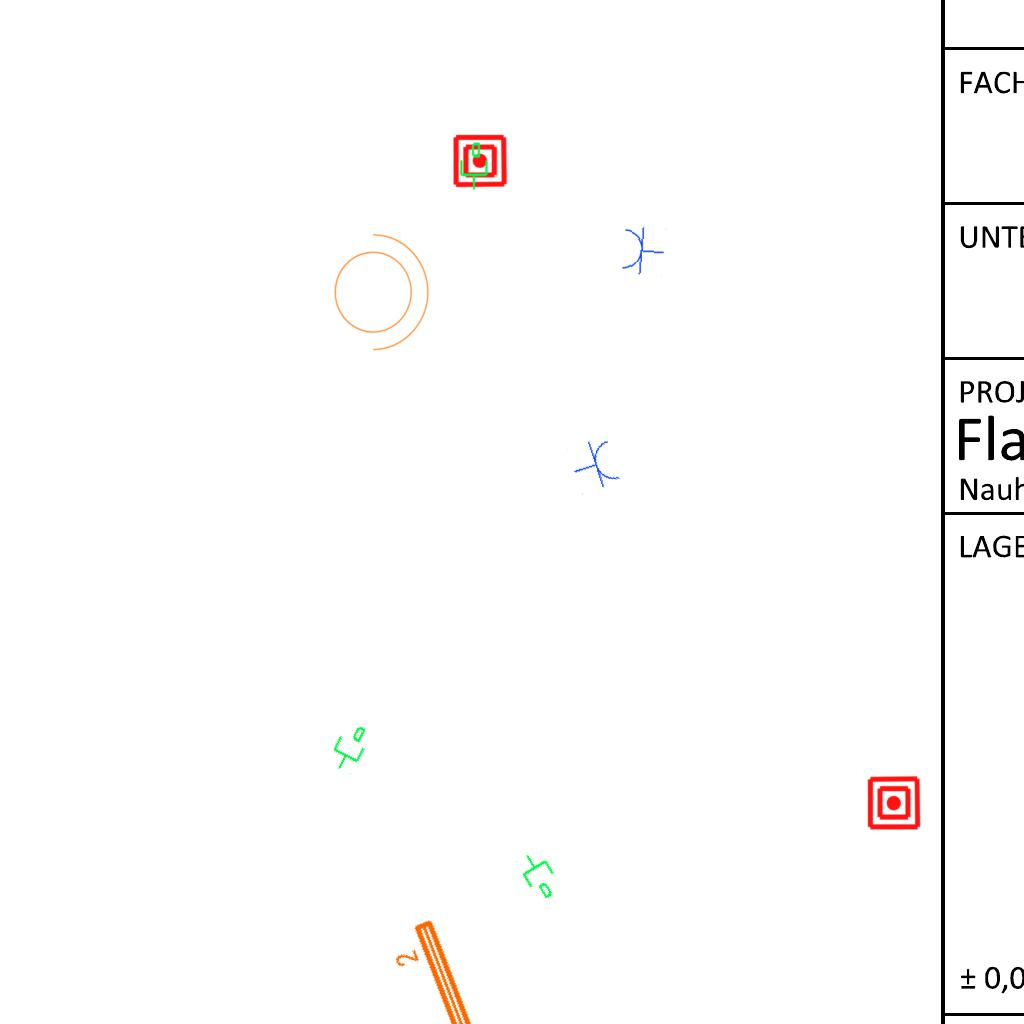Ambulanz_Pendelleuchte_LED: (383, 913, 574, 1024)
Datenanschluss_einfach: (512, 844, 568, 906), (322, 717, 376, 777), (456, 141, 490, 191)
NAM-Nichtautomatischer_Melder: (866, 775, 922, 831), (452, 133, 508, 189)
Scheinwerfer_fuer_Alarmbeleuchtung: (322, 223, 434, 355)
Schukosteckdose_einfach: (566, 435, 624, 496), (619, 223, 667, 278)
